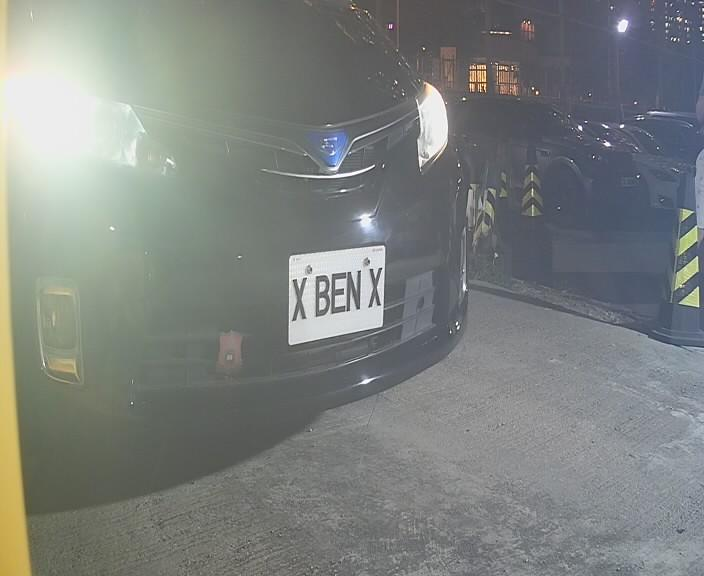Car: (1, 1, 525, 469)
License Plate: (274, 235, 397, 350)
